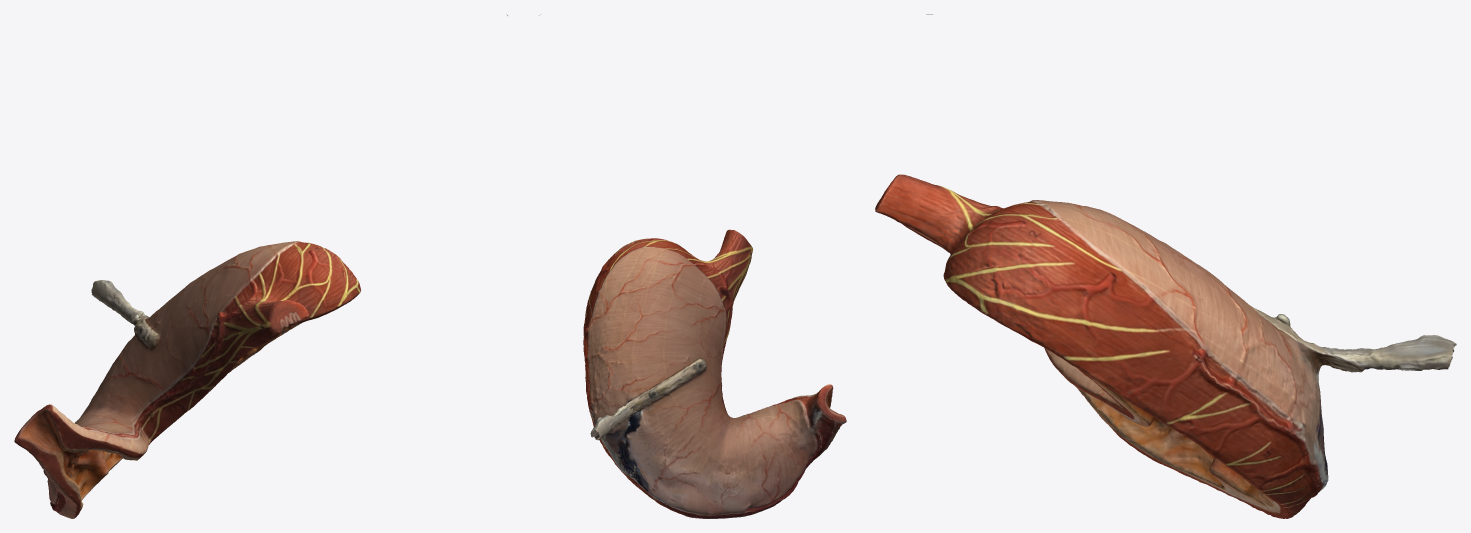
File: stomach.glb
3 views of the same model, side by side, from view 1: azimuth 30°, elevation 25°; view 2: azimuth 150°, elevation 25°; view 3: azimuth 270°, elevation 25° (orthographic). The views are drawn at different scales.
Parts seen in each view (by area): view 1: Object_4, Object_2, Object_3; view 2: Object_4, Object_2, Object_3; view 3: Object_4, Object_2, Object_3, Object_5.
Boxes of the visible parts, bbox=[...] form: Object_4: bbox=[47, 253, 309, 518]; Object_2: bbox=[14, 263, 360, 511]; Object_3: bbox=[62, 14, 507, 470]; Object_4: bbox=[583, 229, 805, 518]; Object_2: bbox=[586, 254, 846, 518]; Object_3: bbox=[539, 14, 809, 518]; Object_4: bbox=[875, 174, 1322, 496]; Object_2: bbox=[943, 229, 1456, 508]; Object_3: bbox=[885, 14, 1328, 518]; Object_5: bbox=[1055, 316, 1256, 446].
Size of the model in its own units: 33.34 by 34.53 by 25.05.
1 material, 1 textured.
